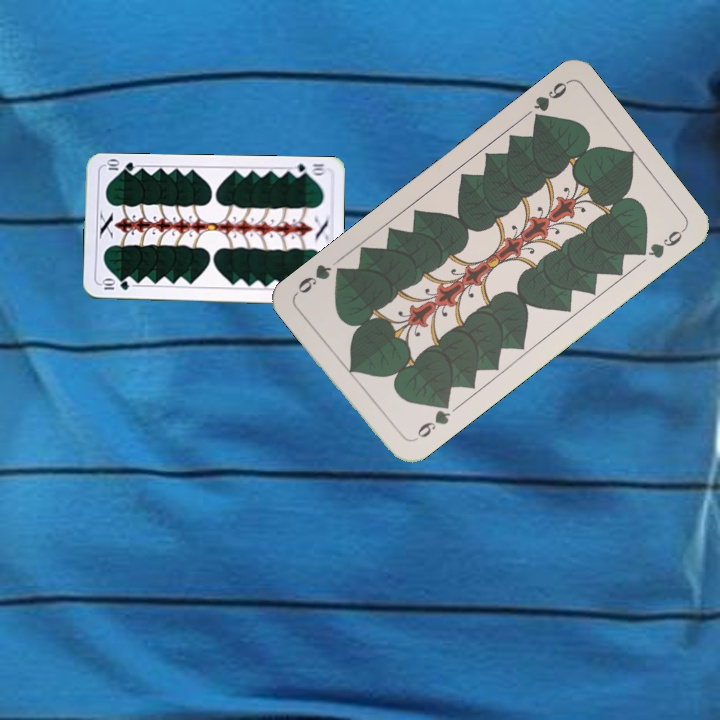G10: (288, 159, 328, 179), (98, 277, 132, 292)
G9: (407, 398, 453, 445), (529, 77, 571, 127)
